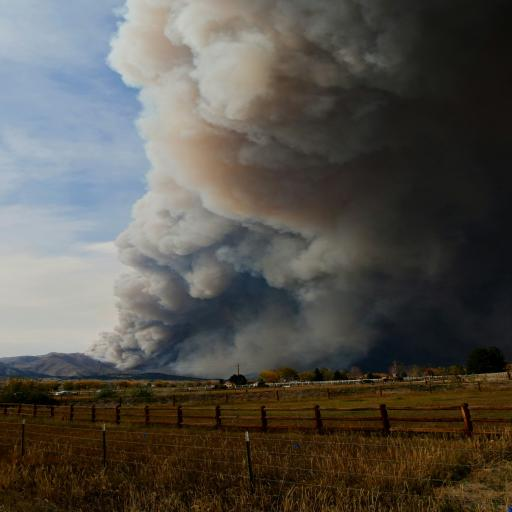smoke: (70, 0, 512, 373)
